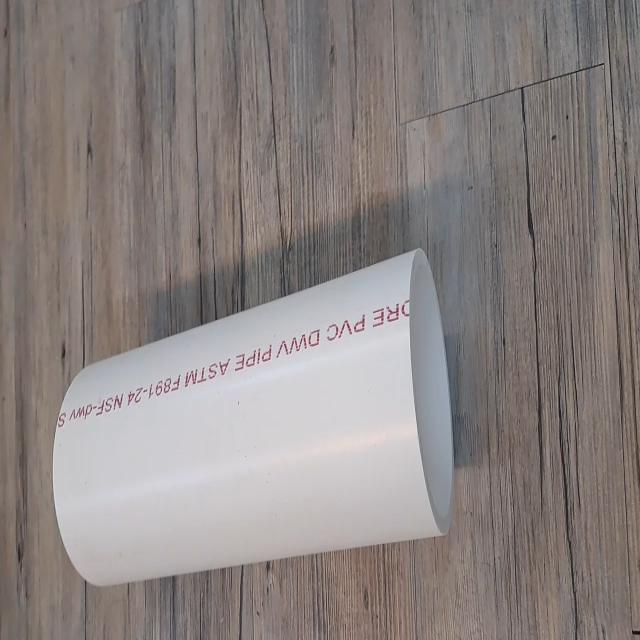CORAL: (52, 239, 462, 579)
